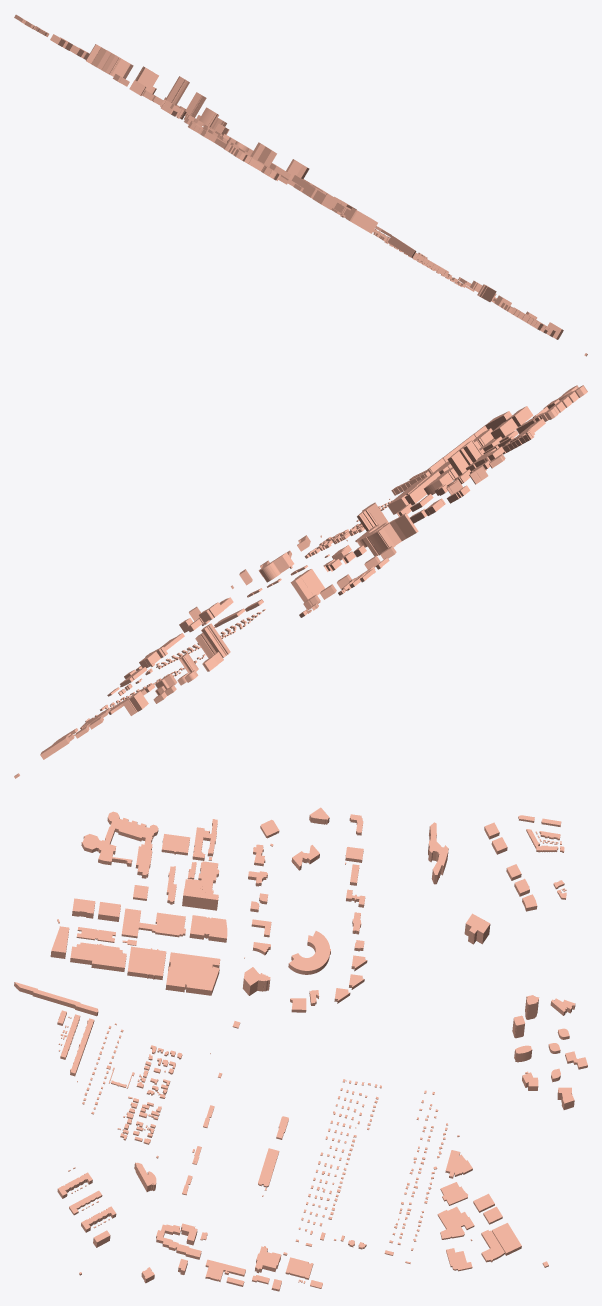
3 renders of one model, top to bottom at view 1: azimuth 30°, elevation 25°; view 2: azimuth 150°, elevation 25°; view 3: azimuth 270°, elevation 25°, orthographic. The views are drawn at different scales.
Size of the model in its own units: 1005 by 781 by 1320.
